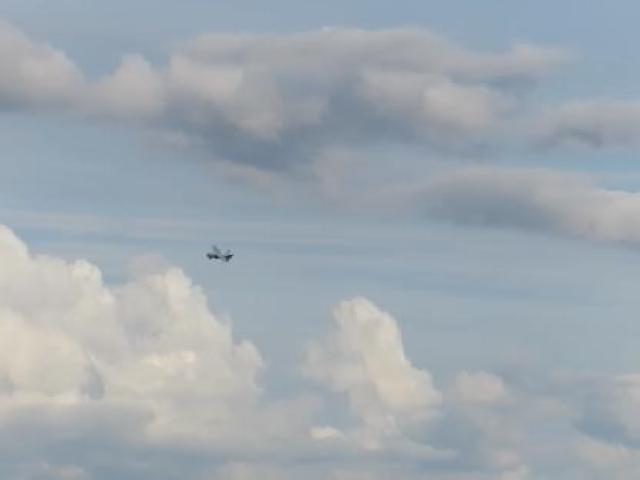uav: (203, 238, 234, 268)
